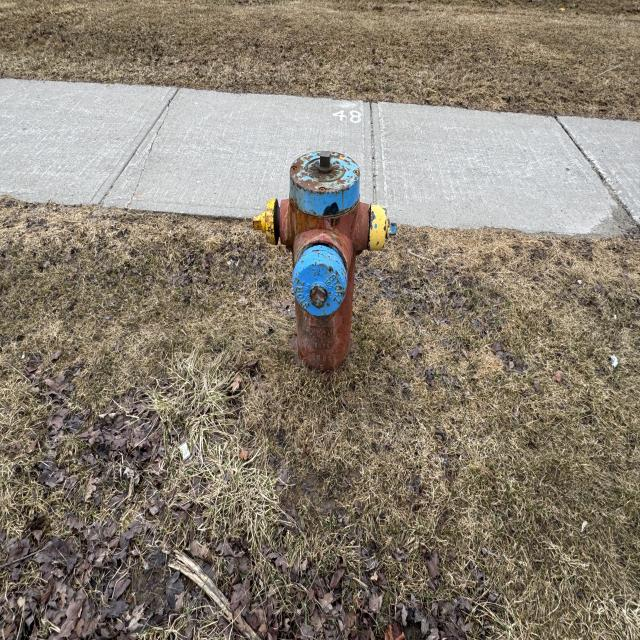Fire hydrant: (252, 150, 397, 385)
